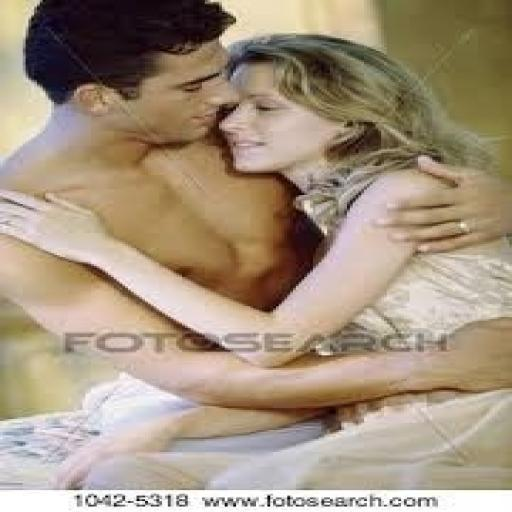hugging: (0, 2, 509, 488)
